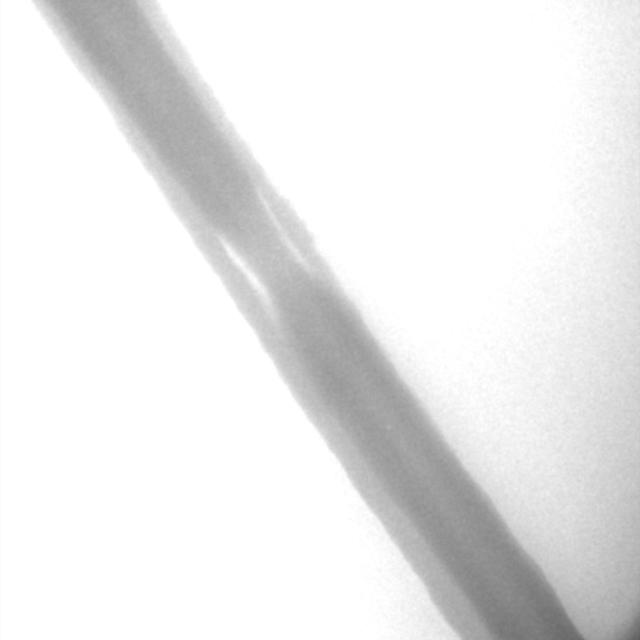unfused: (219, 194, 303, 309)
